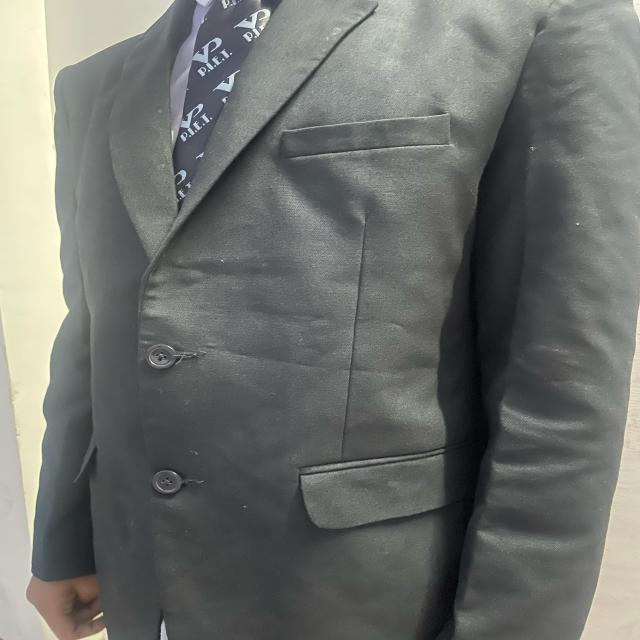Tie: (170, 0, 281, 212)
uniform: (28, 1, 638, 638)
